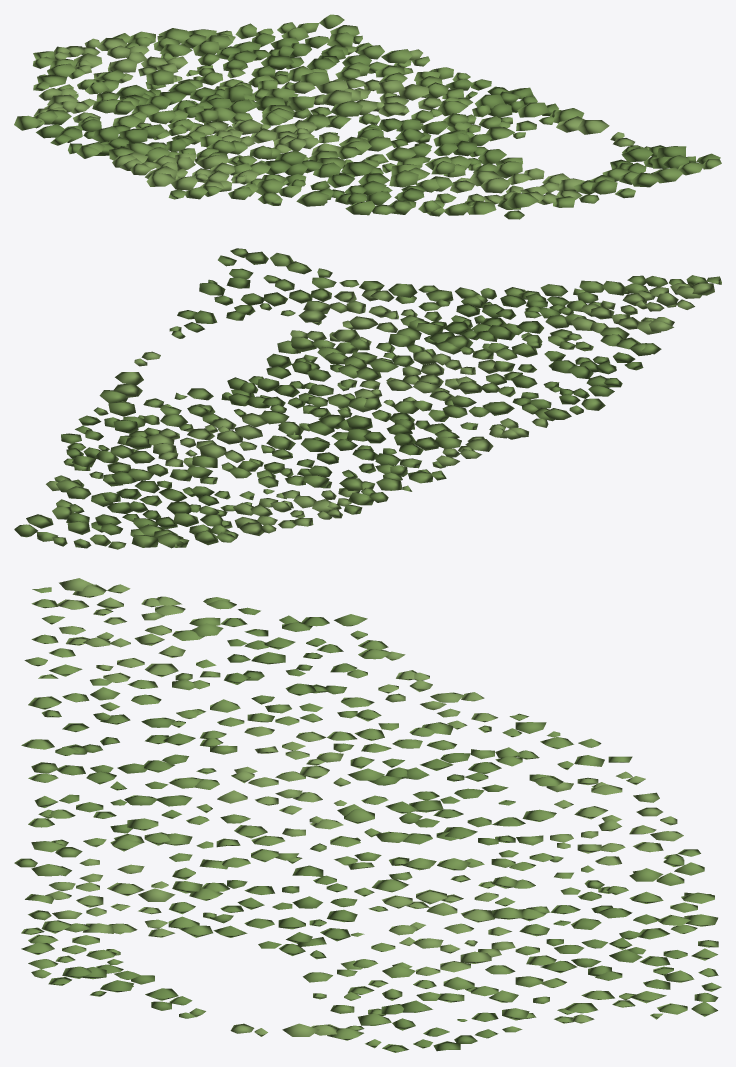
File: canopy-1-3-2.glb
3 renders of one model, top to bottom at view 1: azimuth 30°, elevation 25°; view 2: azimuth 150°, elevation 25°; view 3: azimuth 270°, elevation 25°, orthographic. The views are drawn at different scales.
Size of the model in its own units: 508 by 158 by 515.
1 material, 1 textured.
